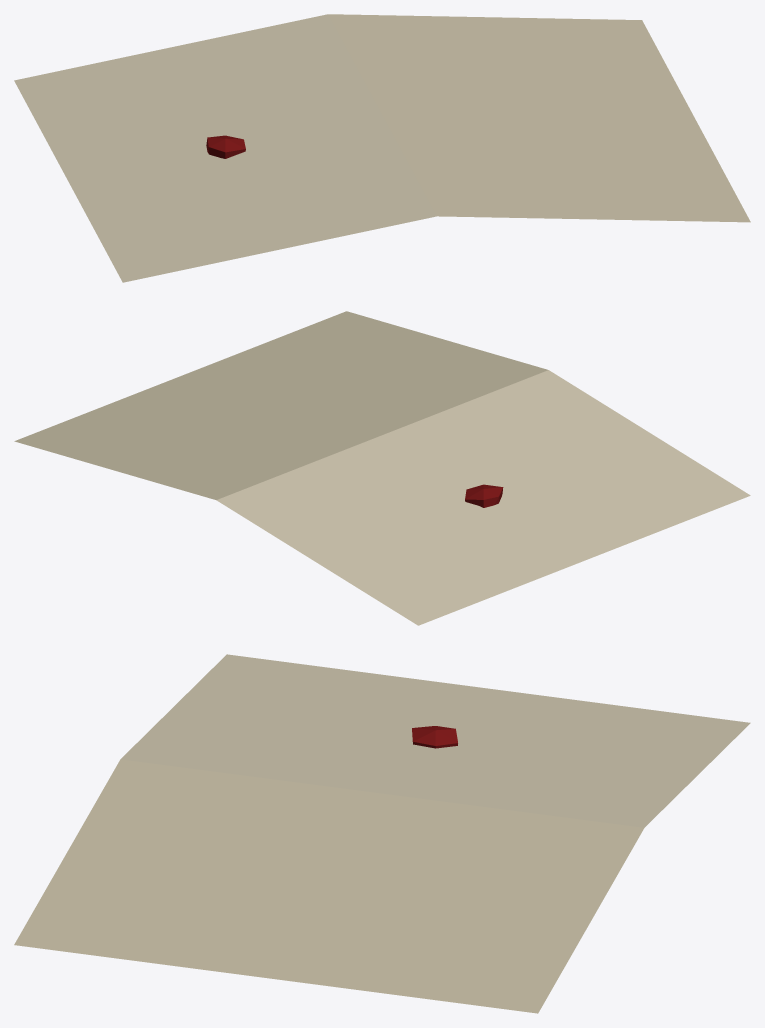
The model's file is letter.glb.
The picture shows the model from 3 angles, top to bottom: view 1: azimuth 30°, elevation 25°; view 2: azimuth 150°, elevation 25°; view 3: azimuth 270°, elevation 25°; orthographic projection. The views are drawn at different scales.
Parts seen in each view (by area): view 1: letter; view 2: letter; view 3: letter.
Part boxes in pixels (bbox=[...]): letter: bbox=[14, 14, 750, 282]; letter: bbox=[14, 311, 750, 625]; letter: bbox=[14, 654, 750, 1013].
Bounding box in the file's own units: 0.4958 × 0.0288 × 0.4298.
